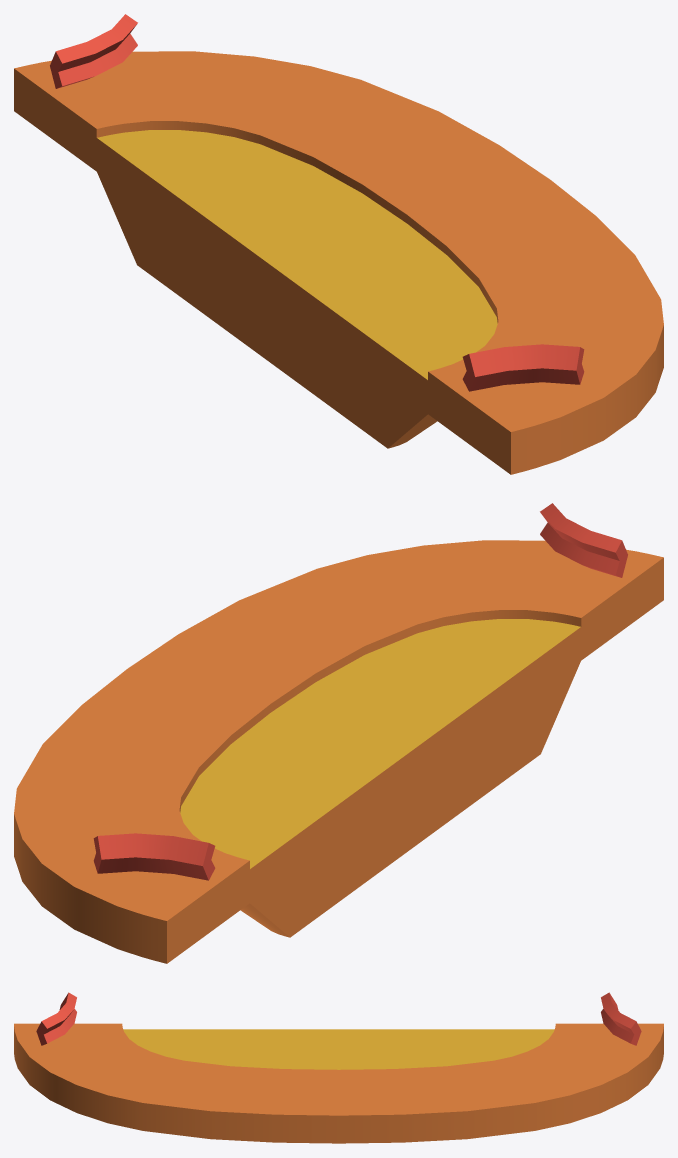
The model's file is BridgeEndFBX.fbx.
3 views of the same model, one above another, from view 1: azimuth 30°, elevation 25°; view 2: azimuth 150°, elevation 25°; view 3: azimuth 270°, elevation 25° (orthographic). The views are drawn at different scales.
Visible parts, largest first — view 1: BridgeEnd; view 2: BridgeEnd; view 3: BridgeEnd.
Part boxes in pixels (x1,y1,x2,y2): BridgeEnd: [14, 14, 663, 474]; BridgeEnd: [14, 503, 663, 963]; BridgeEnd: [14, 992, 663, 1143].
Size of the model in its own units: 25.12 by 12.86 by 75.
